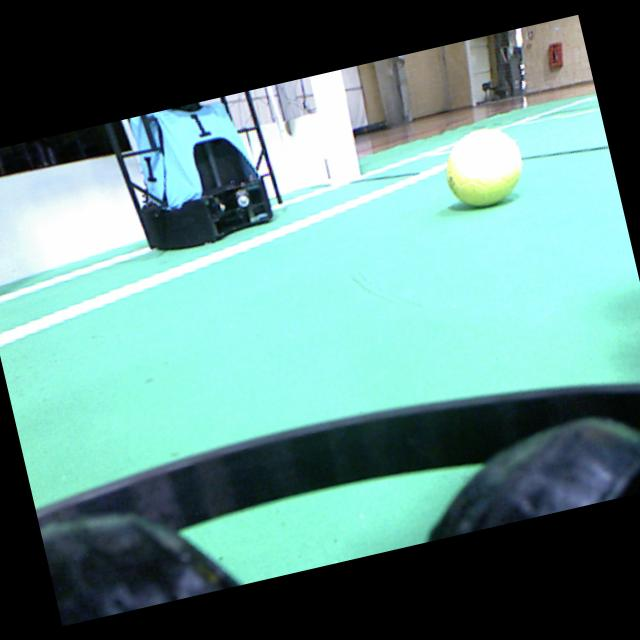ball: (446, 128, 521, 205)
goal: (309, 69, 359, 185)
